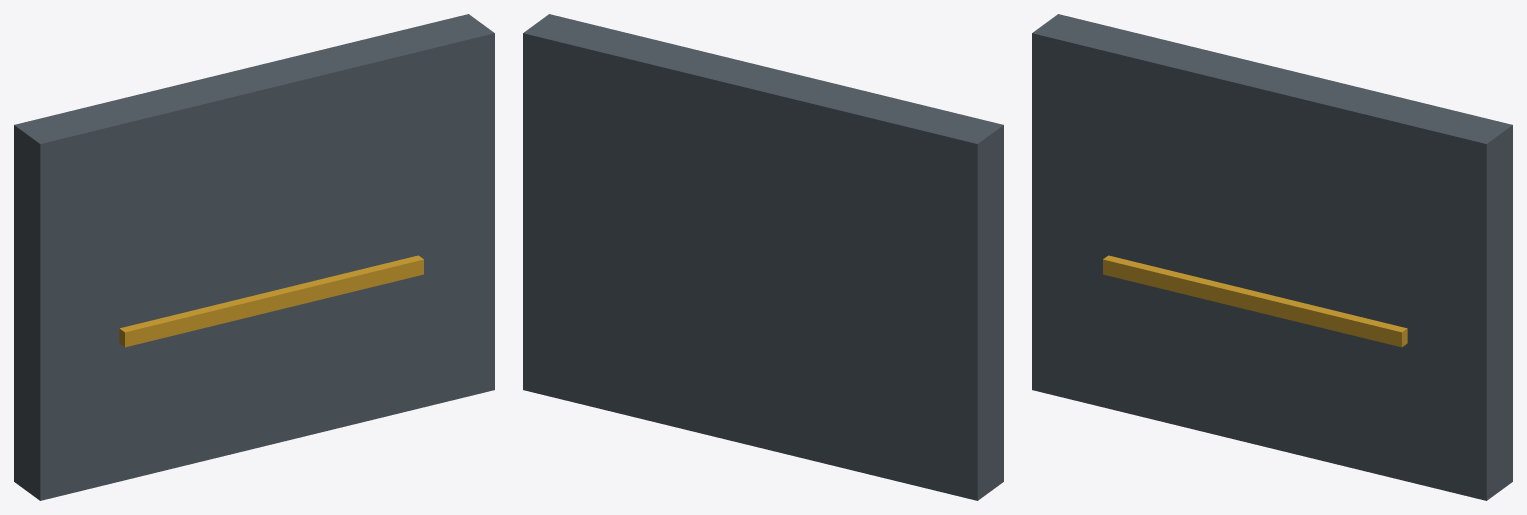
Rendered from door.hallway_crash_bar.glb.
3 views of the same model, side by side, from view 1: azimuth 30°, elevation 25°; view 2: azimuth 150°, elevation 25°; view 3: azimuth 330°, elevation 25° (orthographic).
Parts seen in each view (by area): view 1: crash_door_panel, crash_bar; view 2: crash_door_panel; view 3: crash_door_panel, crash_bar.
Part boxes in pixels (x1,y1,x2,y2): crash_door_panel: (14,14,494,500); crash_bar: (119,255,423,347); crash_door_panel: (523,14,1003,500); crash_door_panel: (1032,14,1512,500); crash_bar: (1103,255,1407,347).
Size of the model in its own units: 3.8 by 2.85 by 0.48.
